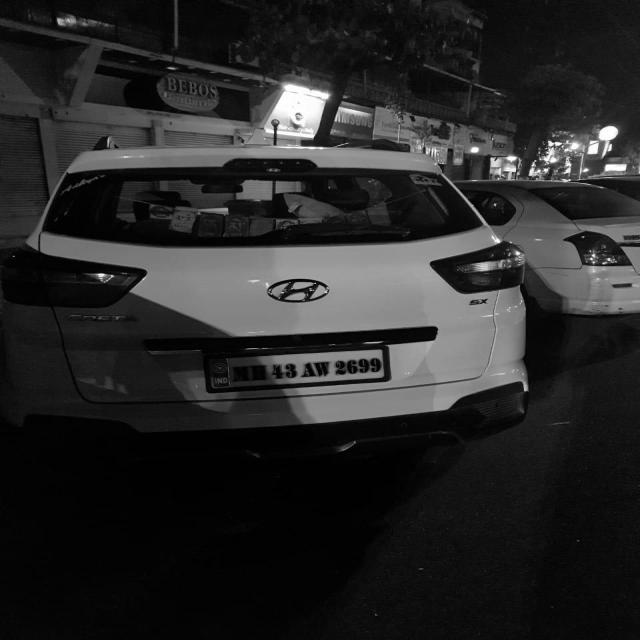car: (27, 125, 553, 490)
license-plate: (186, 328, 406, 402)
